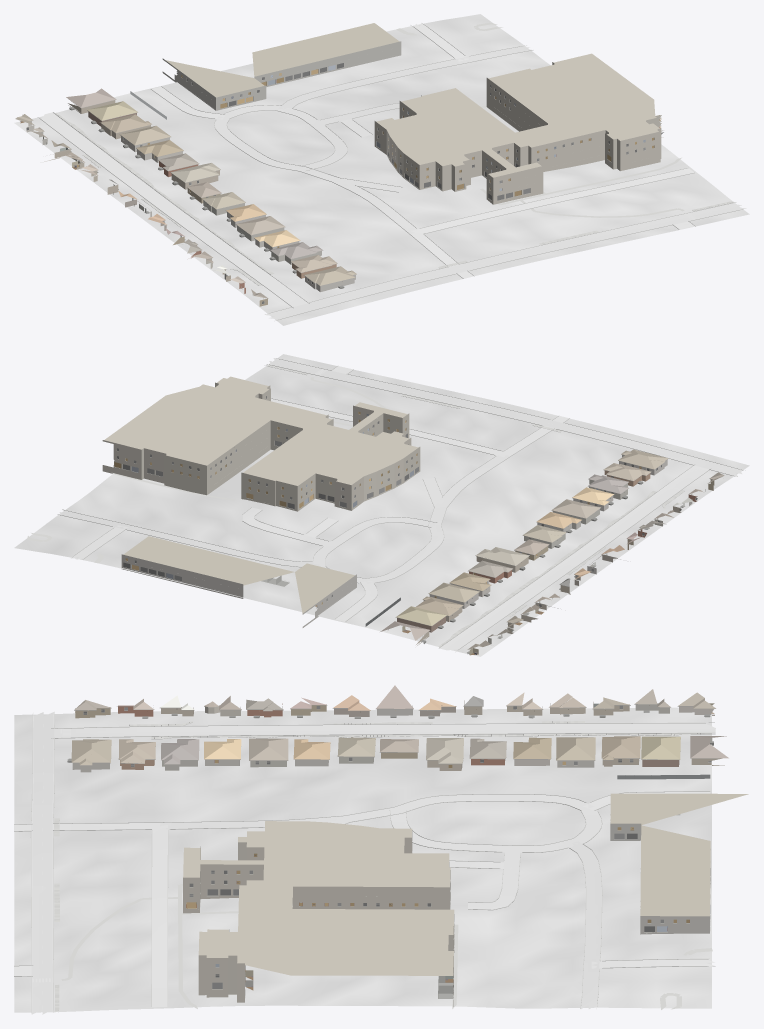
The picture shows the model from 3 angles, top to bottom: view 1: azimuth 30°, elevation 25°; view 2: azimuth 150°, elevation 25°; view 3: azimuth 270°, elevation 25°; orthographic projection. The views are drawn at different scales.
Visible parts, largest first — view 1: ground, roof_flat, wall_com, concrete, roof, curb, asphalt, walk, detail, wall, wall_stucco, glass (+2 smaller); view 2: ground, roof_flat, wall_com, concrete, roof, curb, asphalt, walk, detail, wall, wall_stucco, glass (+2 smaller); view 3: ground, roof_flat, concrete, roof, wall_com, asphalt, curb, walk, wall, wall_stucco, detail, wall_stone (+2 smaller).
Boxes of the visible parts, x1,y1,x2,y2 form: ground: [14, 14, 749, 325]; roof_flat: [165, 23, 659, 177]; wall_com: [162, 41, 663, 204]; concrete: [41, 22, 694, 306]; roof: [15, 88, 356, 298]; curb: [38, 23, 743, 320]; asphalt: [264, 203, 746, 319]; walk: [55, 22, 734, 285]; detail: [26, 63, 662, 304]; wall: [44, 100, 336, 306]; wall_stucco: [26, 121, 321, 268]; glass: [26, 63, 663, 303]; ground: [14, 354, 749, 656]; roof_flat: [104, 376, 418, 613]; wall_com: [102, 382, 420, 627]; concrete: [59, 366, 708, 650]; roof: [380, 449, 724, 649]; curb: [57, 358, 743, 650]; asphalt: [269, 358, 741, 476]; walk: [27, 364, 684, 646]; detail: [115, 396, 723, 654]; wall: [397, 470, 714, 645]; wall_stucco: [450, 479, 662, 643]; glass: [117, 396, 697, 607]; ground: [14, 707, 711, 1012]; roof_flat: [183, 793, 748, 975]; concrete: [14, 723, 715, 1008]; roof: [71, 685, 728, 765]; wall_com: [183, 823, 710, 1006]; asphalt: [31, 711, 54, 1014]; curb: [14, 714, 715, 1012]; walk: [54, 721, 712, 1012]; wall: [75, 700, 724, 769]; wall_stucco: [162, 703, 714, 770]; detail: [67, 703, 717, 997]; wall_stone: [72, 709, 594, 772].
Bounding box in the file's own units: 268 × 18.12 × 264.
